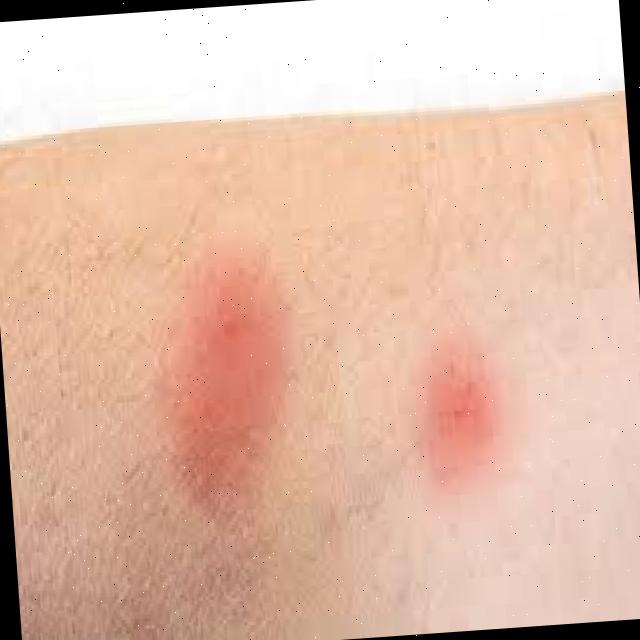kan emici bocekler: (164, 237, 313, 445), (408, 336, 505, 476)
